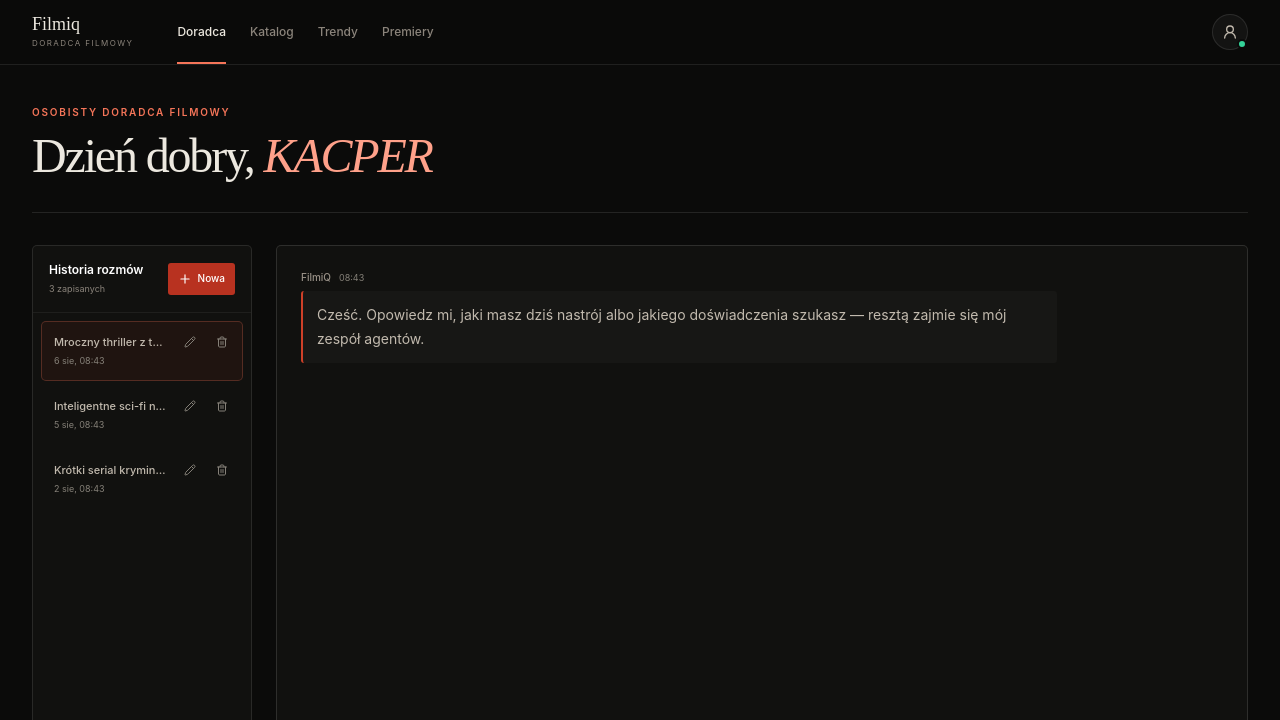
it: App routing › logs out from the avatar menu and returns to login
The width and height of the screenshot is (1280, 720).
Click the button named "Menu użytkownika:" at point(1230, 32), box [1212,14,1248,50]
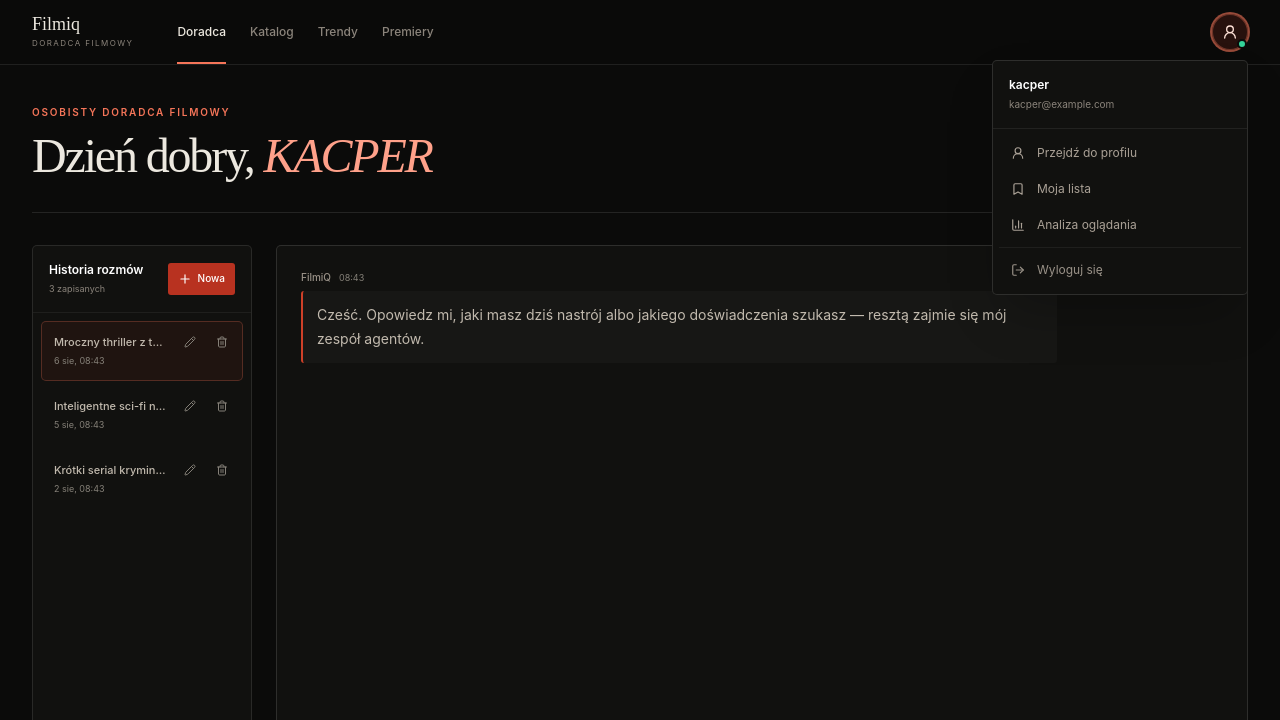
Click the menu item "Wyloguj się" at point(1120, 270), box [999,252,1241,288]
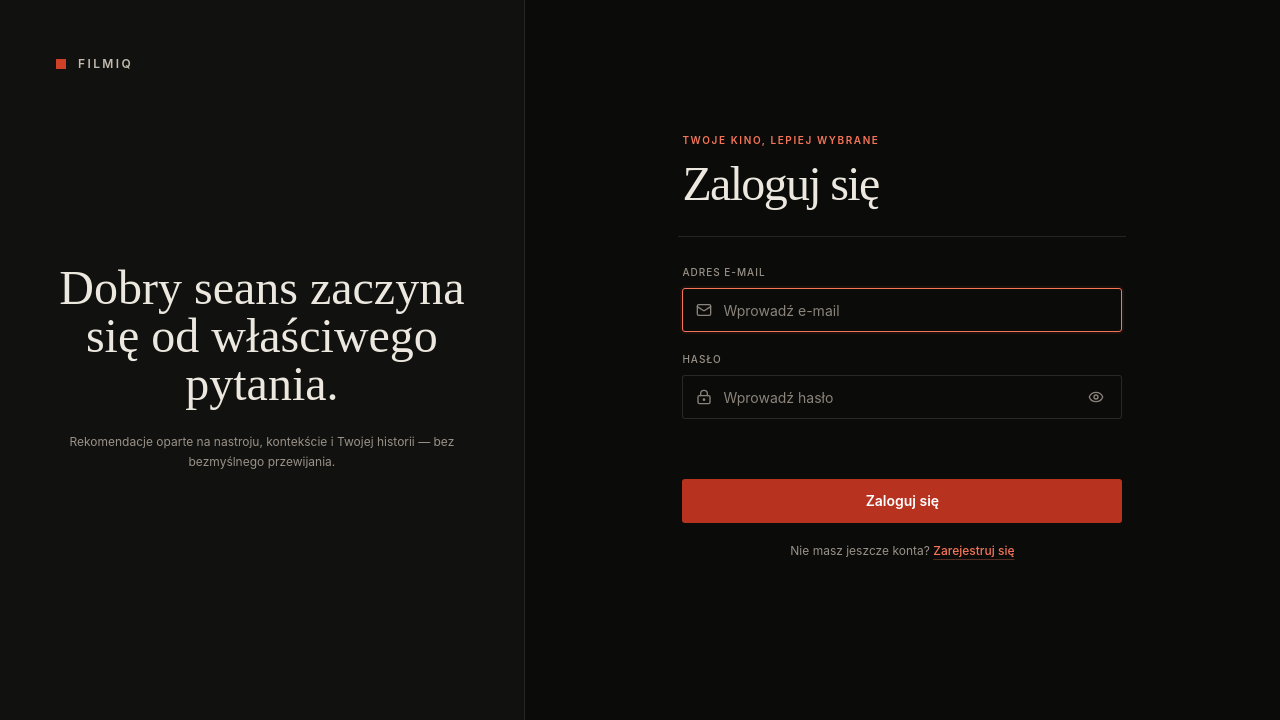
Expected: the heading "Zaloguj się" is shown, [682,157,878,210]
